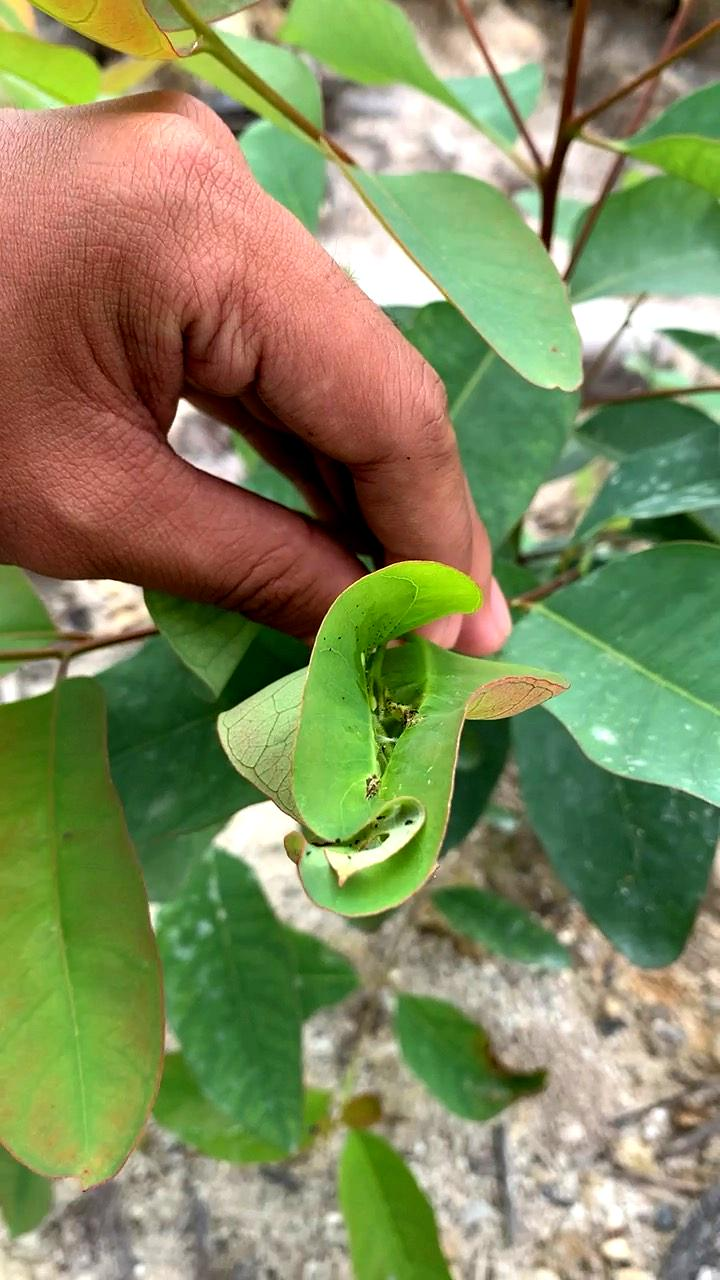Leaf Roller - Leaf: (269, 543, 528, 968)
